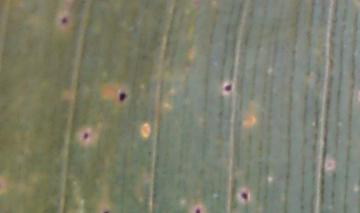tarspot: (60, 16, 70, 25), (118, 91, 127, 101), (241, 191, 249, 202), (224, 84, 232, 93), (194, 206, 202, 213), (83, 131, 88, 139), (102, 209, 111, 213)
